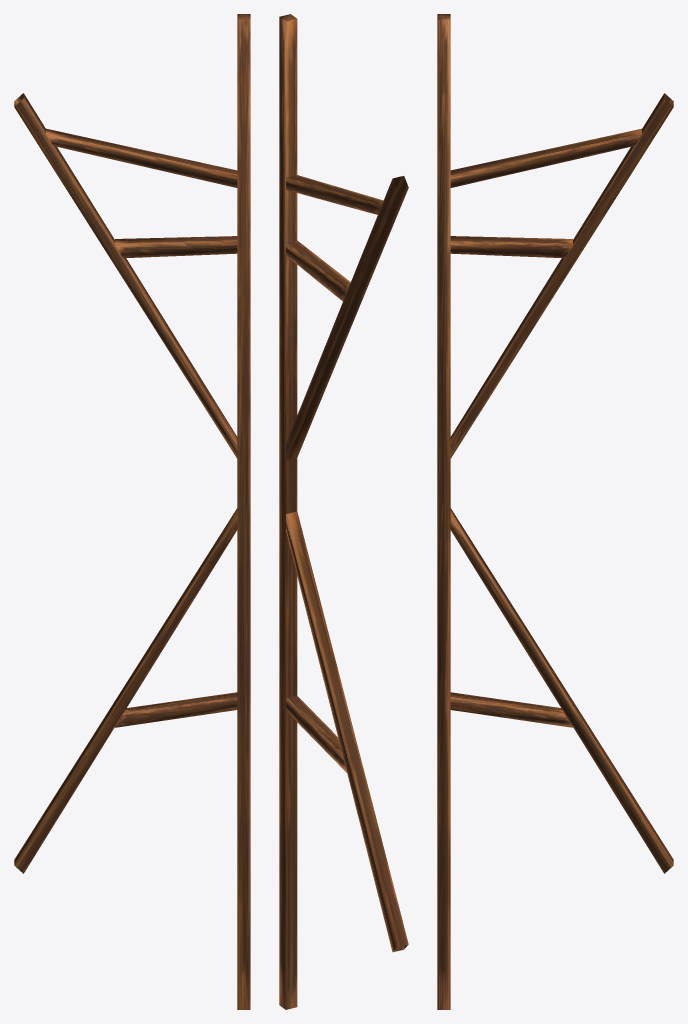
Rendered from INST_SWORDLIGHT_SUPPORT.fbx.
3 views of the same model, side by side, from view 1: azimuth 90°, elevation 25°; view 2: azimuth 210°, elevation 25°; view 3: azimuth 270°, elevation 25° (orthographic).
Visible parts, largest first — view 1: INST_SWORDLIGHT_SUPPORT; view 2: INST_SWORDLIGHT_SUPPORT; view 3: INST_SWORDLIGHT_SUPPORT.
Part boxes in pixels (x1=…): INST_SWORDLIGHT_SUPPORT: x1=14, y1=14, x2=250, y2=1009; INST_SWORDLIGHT_SUPPORT: x1=279, y1=14, x2=408, y2=1009; INST_SWORDLIGHT_SUPPORT: x1=437, y1=14, x2=673, y2=1009.
Size of the model in its own units: 1750 by 143393 by 31055.
Materials: 1 (1 with a texture image).
